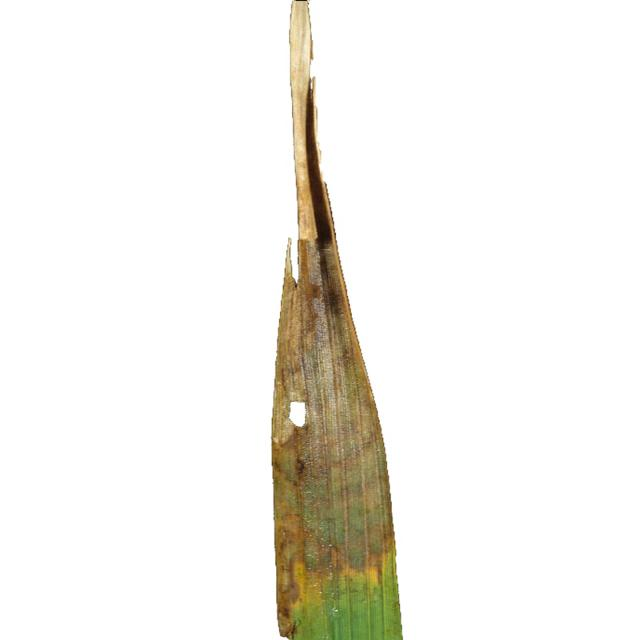Leaf scald: (208, 0, 487, 640)
